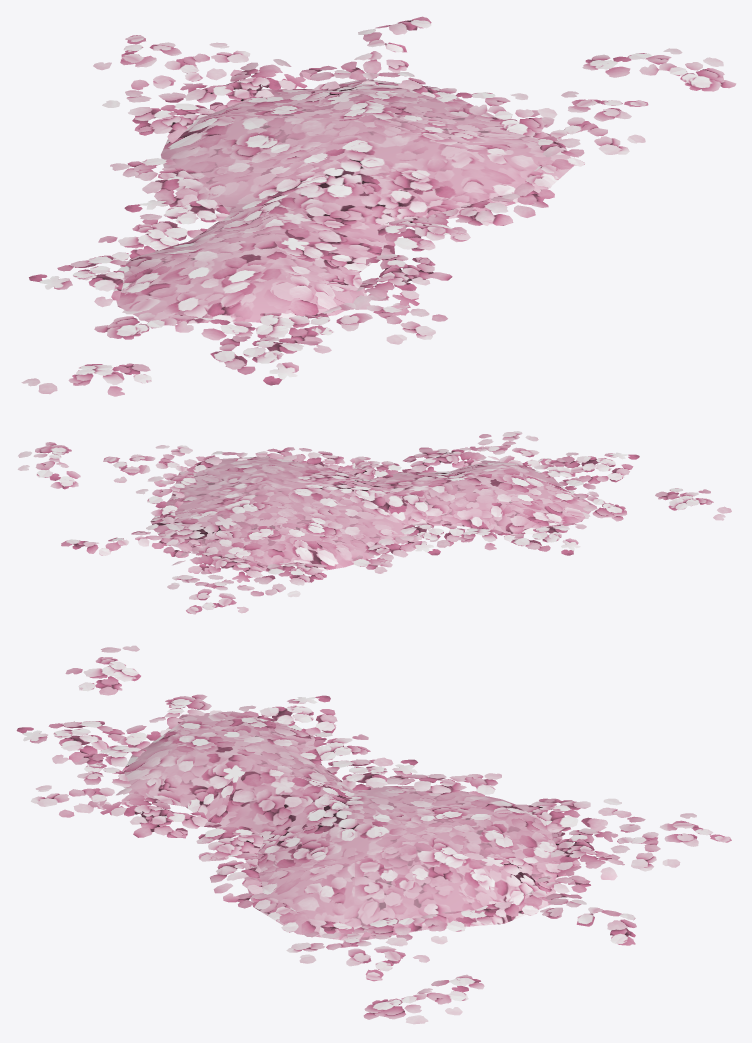
File: SM_Env_CherryBlossom_Pile_04.fbx
3 views of the same model, one above another, from view 1: azimuth 30°, elevation 25°; view 2: azimuth 150°, elevation 25°; view 3: azimuth 270°, elevation 25° (orthographic). The views are drawn at different scales.
Visible parts, largest first — view 1: SM_Env_CherryBlossom_Pile_04; view 2: SM_Env_CherryBlossom_Pile_04; view 3: SM_Env_CherryBlossom_Pile_04.
Part boxes in pixels (<box>): SM_Env_CherryBlossom_Pile_04: <box>21,16,736,396</box>; SM_Env_CherryBlossom_Pile_04: <box>17,431,731,614</box>; SM_Env_CherryBlossom_Pile_04: <box>16,645,731,1024</box>.
Bounding box in the file's own units: 546 × 18.61 × 433.
